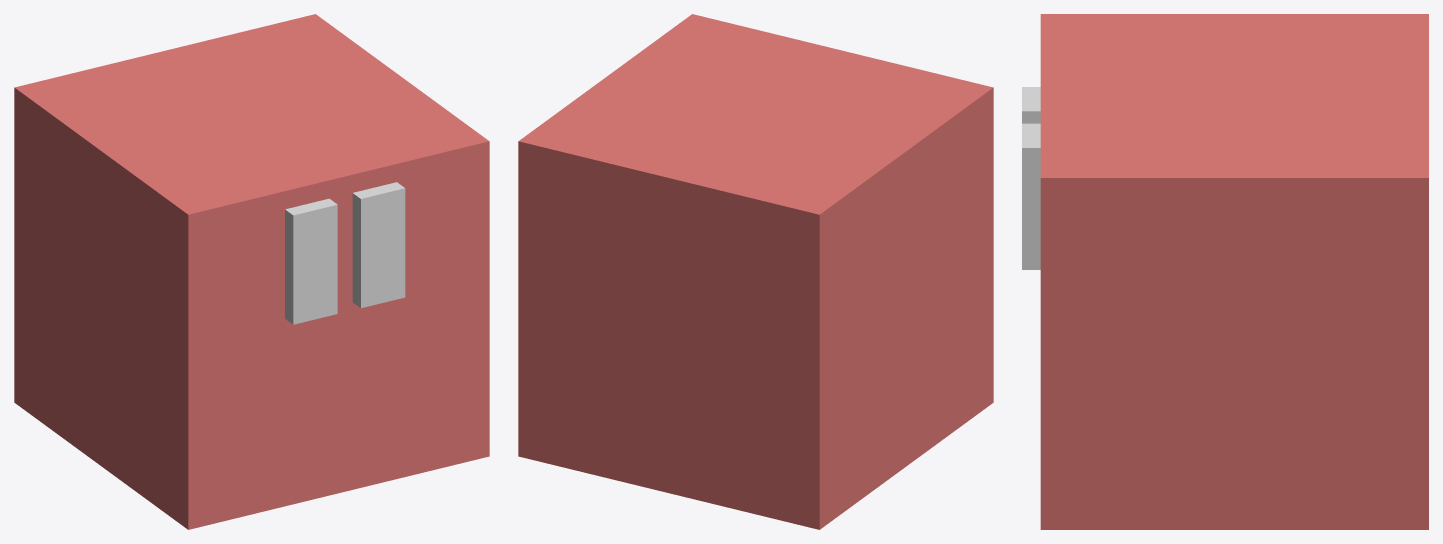
The model's file is red.fbx.
3 renders of one model, left to right at view 1: azimuth 30°, elevation 25°; view 2: azimuth 150°, elevation 25°; view 3: azimuth 270°, elevation 25°, orthographic. The views are drawn at different scales.
Parts seen in each view (by area): view 1: Cube, Cube.001, Cube.002; view 2: Cube; view 3: Cube, Cube.001, Cube.002.
Part boxes in pixels (bbox=[...]): Cube: bbox=[14, 14, 489, 529]; Cube.001: bbox=[352, 182, 405, 308]; Cube.002: bbox=[285, 198, 337, 324]; Cube: bbox=[518, 14, 993, 529]; Cube: bbox=[1040, 14, 1428, 529]; Cube.001: bbox=[1022, 123, 1040, 269]; Cube.002: bbox=[1022, 87, 1040, 123].
Size of the model in its own units: 379 by 379 by 397.
